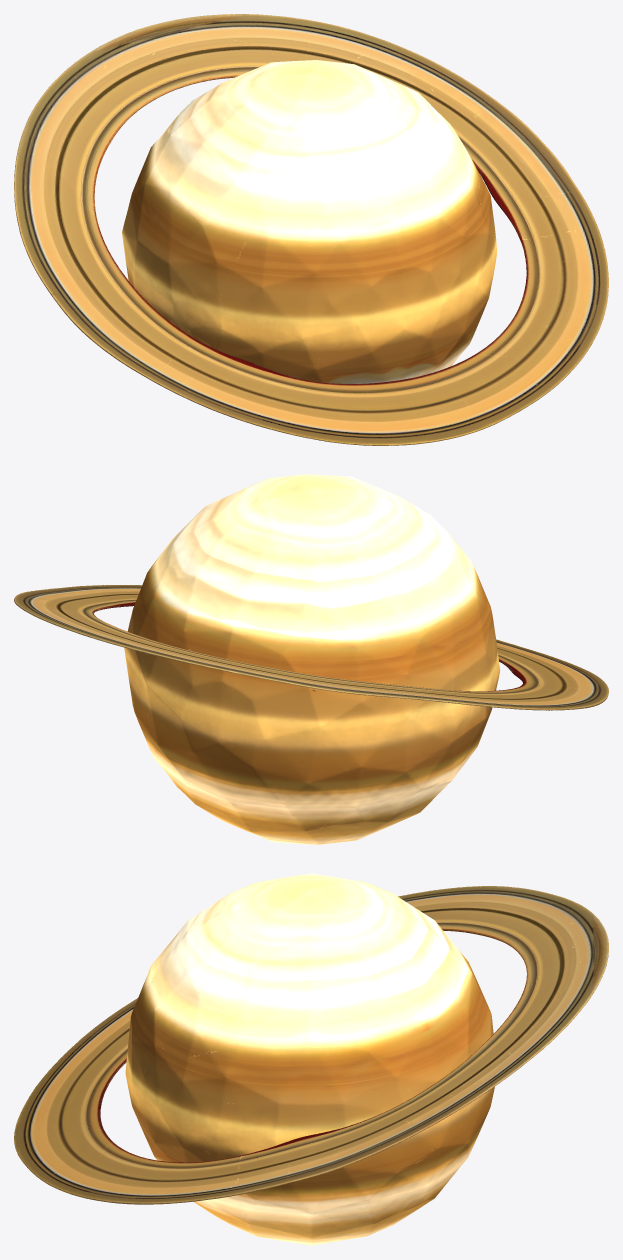
File: saturn.glb
3 renders of one model, top to bottom at view 1: azimuth 30°, elevation 25°; view 2: azimuth 150°, elevation 25°; view 3: azimuth 270°, elevation 25°, orthographic.
Size of the model in its own units: 1.89 by 1.19 by 1.9.
Materials: 1 (1 with a texture image).
